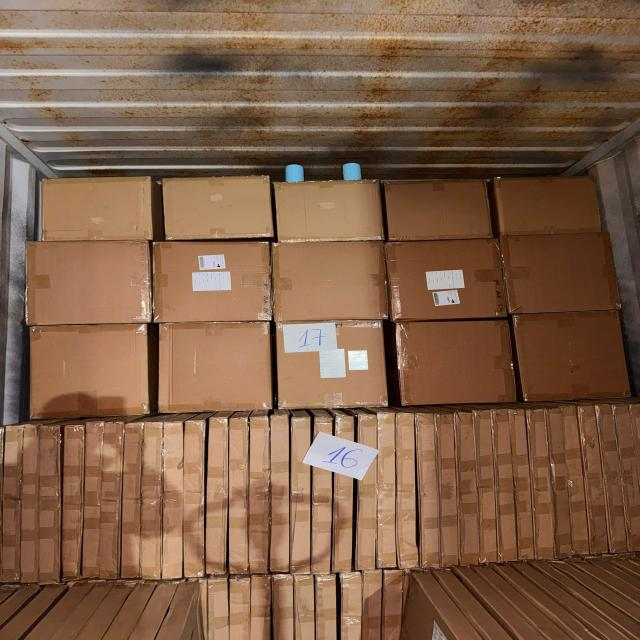Carton: (28, 324, 152, 419), (23, 241, 152, 327), (514, 313, 632, 402), (393, 319, 512, 406), (153, 239, 276, 323), (160, 322, 272, 414), (278, 322, 390, 412), (385, 237, 504, 321), (503, 233, 621, 314), (274, 241, 390, 323), (38, 177, 154, 246), (162, 177, 273, 244), (277, 180, 384, 244), (385, 180, 491, 244), (495, 175, 605, 236), (594, 404, 628, 552), (577, 402, 609, 554), (610, 403, 640, 553), (249, 414, 275, 577), (531, 406, 558, 562), (39, 421, 64, 588), (60, 421, 86, 581), (353, 412, 379, 572), (95, 419, 120, 578), (139, 420, 164, 579), (269, 413, 293, 577), (416, 414, 441, 570), (225, 413, 249, 575), (313, 412, 337, 574), (205, 417, 229, 578), (184, 417, 208, 577), (332, 414, 356, 574), (372, 413, 396, 571), (396, 413, 420, 570), (494, 408, 518, 565), (458, 410, 482, 566), (0, 424, 23, 586), (289, 415, 312, 576), (160, 422, 183, 582), (121, 421, 144, 580), (81, 418, 103, 582), (563, 402, 587, 552), (436, 411, 458, 568), (18, 422, 39, 586), (478, 409, 500, 565), (509, 405, 531, 558), (382, 569, 406, 639), (339, 574, 364, 640), (359, 572, 382, 640), (272, 578, 296, 640), (315, 575, 338, 638), (294, 575, 316, 639), (230, 576, 252, 639), (252, 578, 274, 640), (207, 577, 229, 639)
